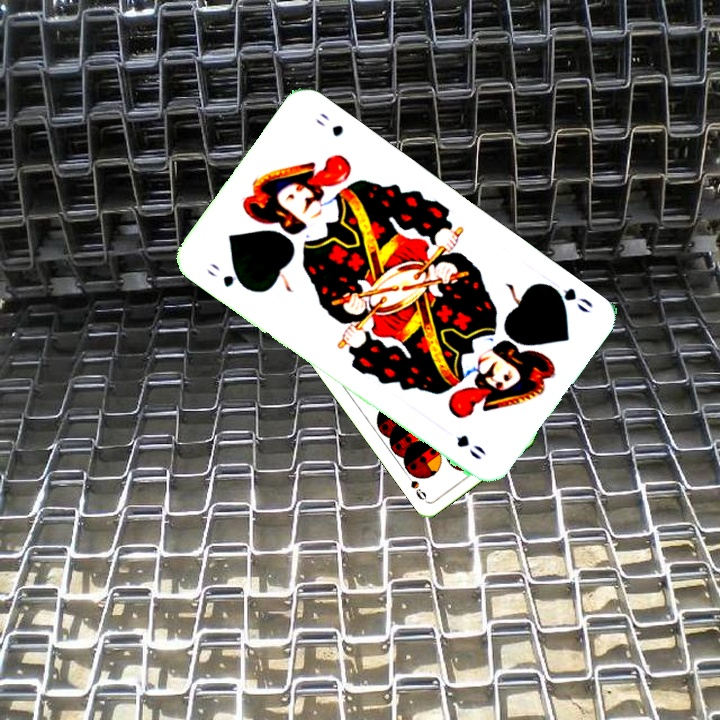GO: (540, 279, 596, 316), (203, 259, 251, 292)
